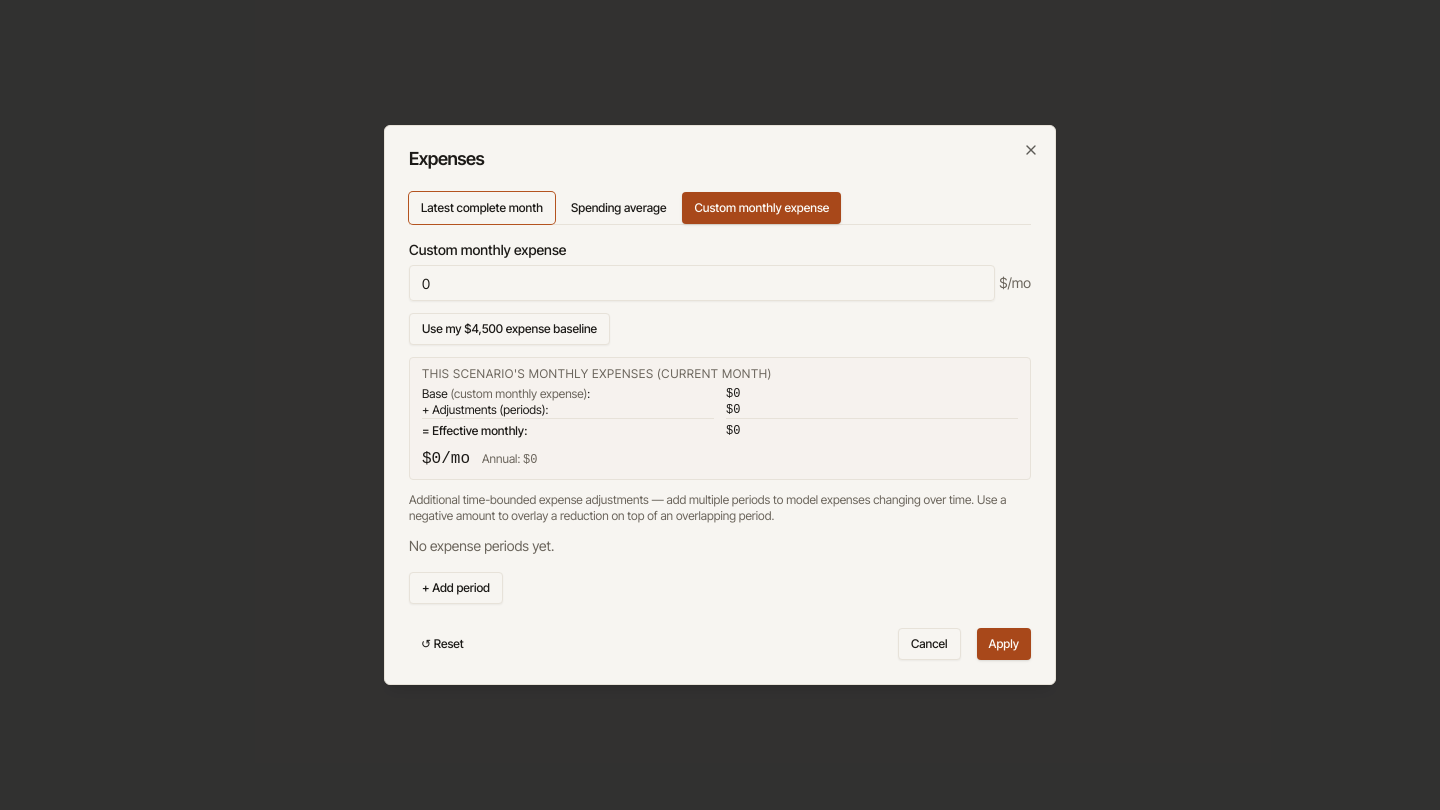
Test: ExpensePeriodsPopover — C2: a NEW scenario opens on Spending average; a custom $0 base offers the household prefill › Custom tab, SAVED base $0, baseline on file → the one-tap prefill (CR-R1-7b's literal) sits under the field; tapping fills the field
What coordinates should you click on to do the following:
click the button with test id "expense-custom-zero-prefill"
I would click on:
 (510, 329)
Its box is [409,313,610,345].
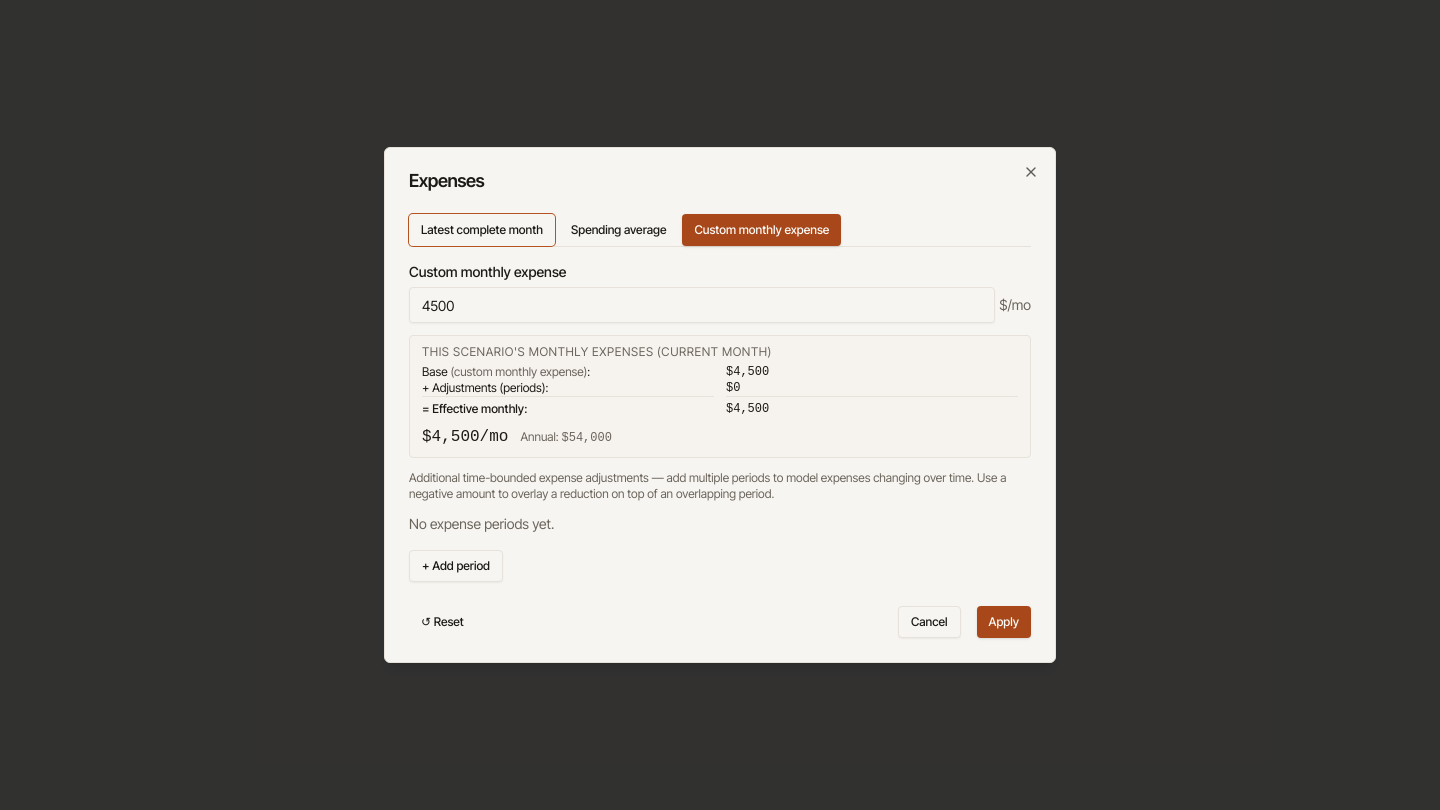
Expected: the text with test id "expense-base" shows "4,500", [726,365,769,379]
Expected: the number field labelled "Custom monthly expense" holds "4500", [409,287,995,323]
Expected: the button with test id "expense-custom-zero-prefill" is gone
